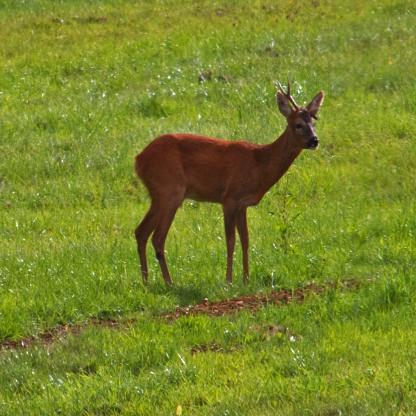Deer: (135, 76, 326, 284)
